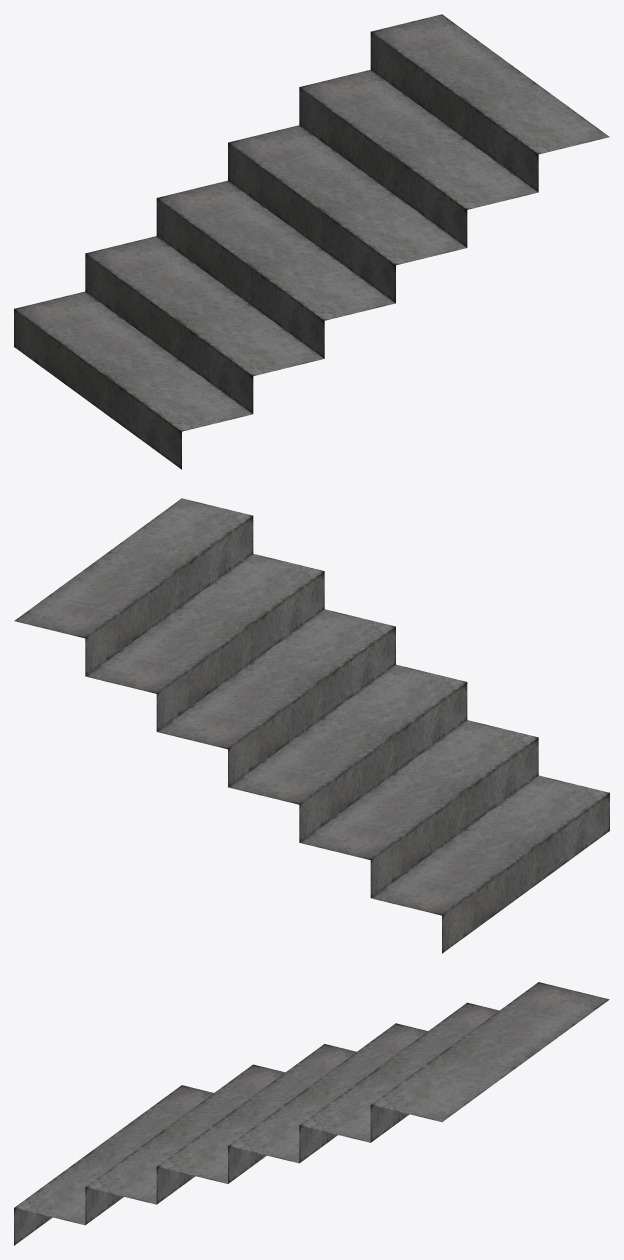
Rendered from CouloirTouffu_Block_09.fbx.
The picture shows the model from 3 angles, top to bottom: view 1: azimuth 30°, elevation 25°; view 2: azimuth 150°, elevation 25°; view 3: azimuth 330°, elevation 25°; orthographic projection.
Visible parts, largest first — view 1: CouloirTouffu_Block_09; view 2: CouloirTouffu_Block_09; view 3: CouloirTouffu_Block_09.
Part boxes in pixels (x1,y1,x2,y2): CouloirTouffu_Block_09: [14, 14, 609, 469]; CouloirTouffu_Block_09: [14, 498, 609, 953]; CouloirTouffu_Block_09: [14, 982, 609, 1245].
Bounding box in the file's own units: 295 × 150 × 200.
